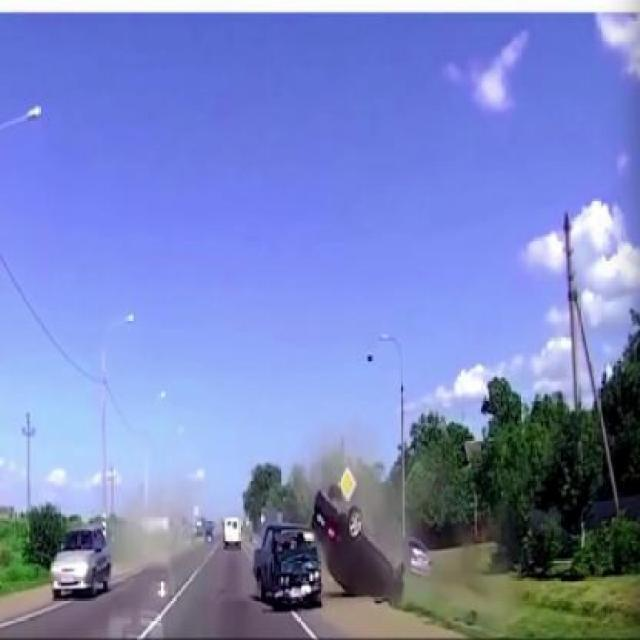Car Accident Detector - v4 Generation1 Exported: (255, 487, 405, 607)
